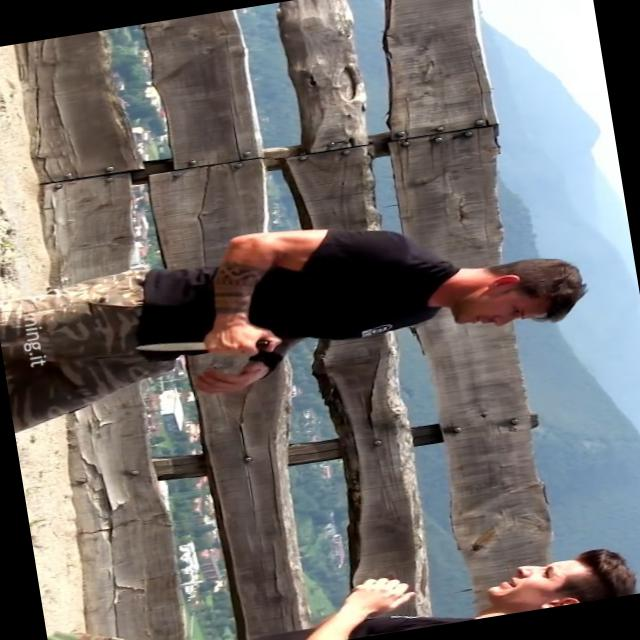knife: (130, 318, 286, 376)
